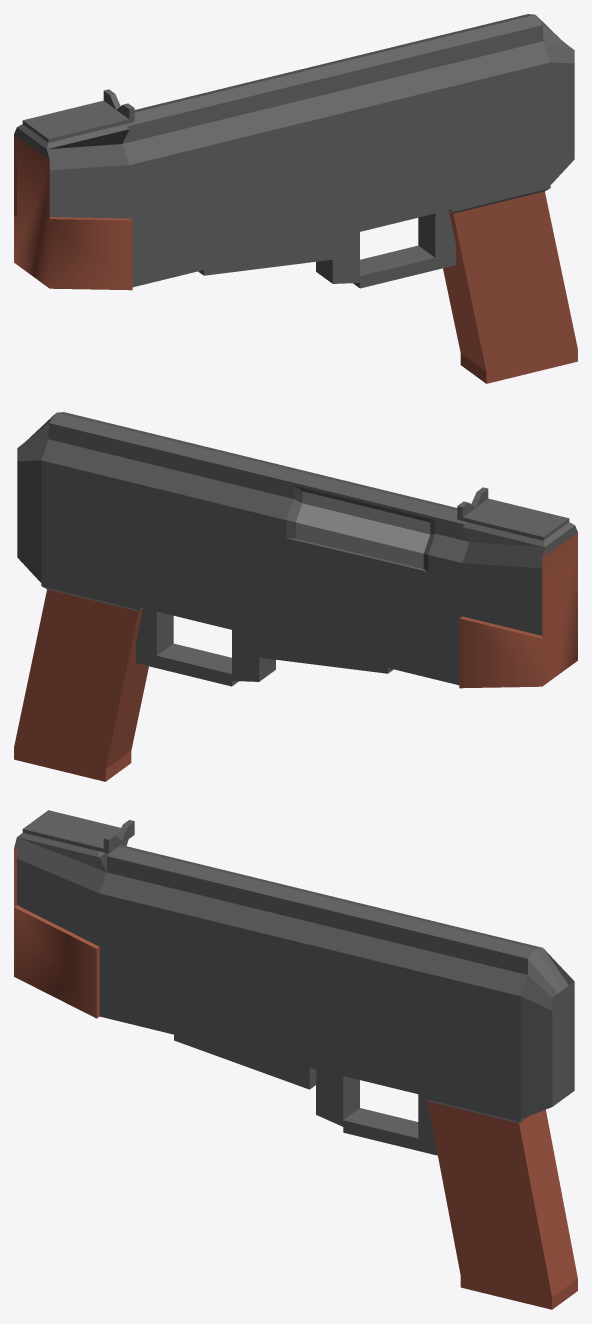
3 views of the same model, one above another, from view 1: azimuth 30°, elevation 25°; view 2: azimuth 150°, elevation 25°; view 3: azimuth 330°, elevation 25° (orthographic).
Visible parts, largest first — view 1: Cube; view 2: Cube; view 3: Cube.
Part boxes in pixels (x1,y1,x2,y2): Cube: [14, 14, 577, 383]; Cube: [14, 412, 577, 781]; Cube: [14, 810, 577, 1309].
Bounding box in the file's own units: 2052 × 1330 × 238.
